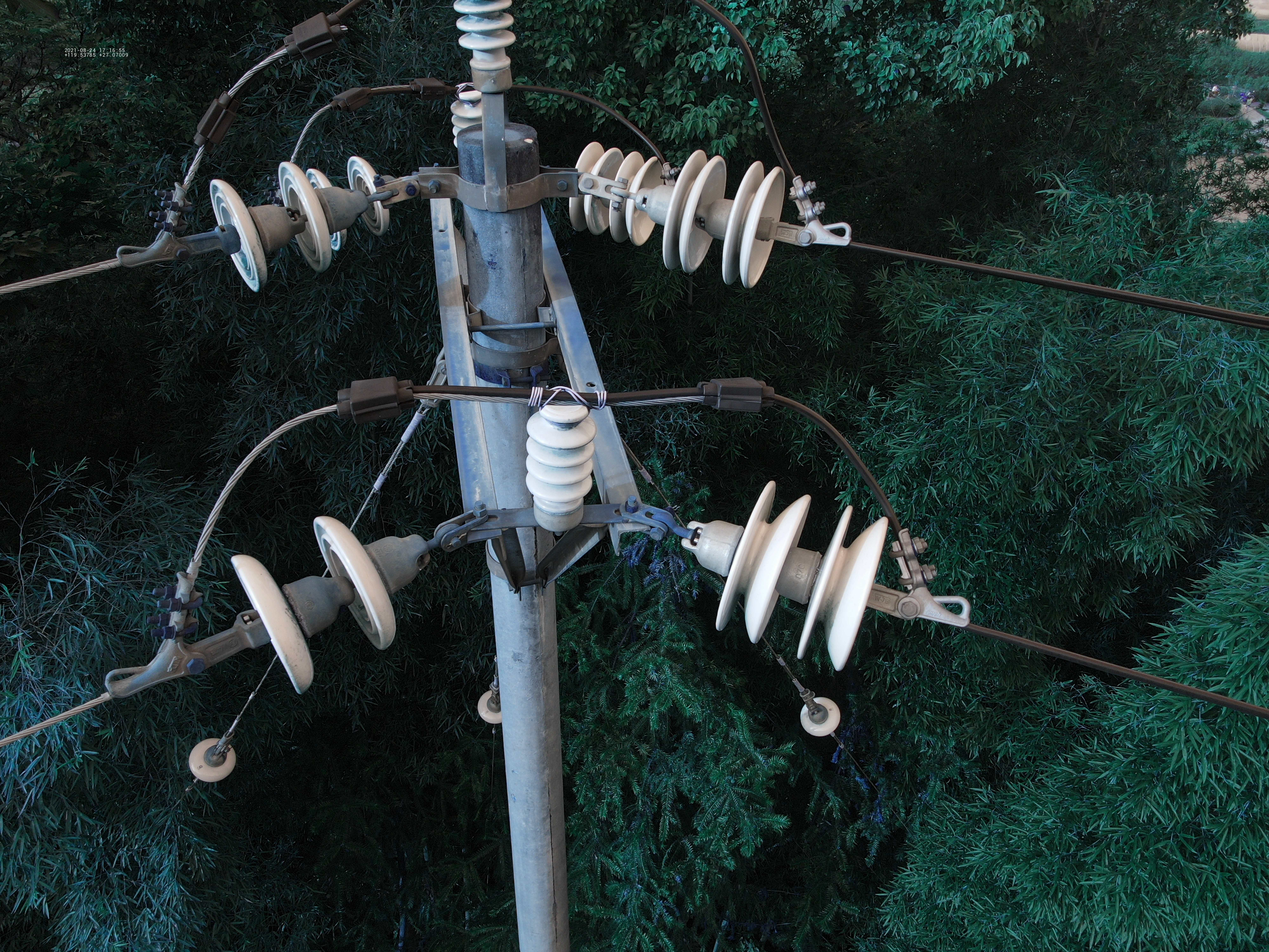severe_soiling_no_discharge_whole: (205, 156, 372, 290), (454, 2, 521, 95)
